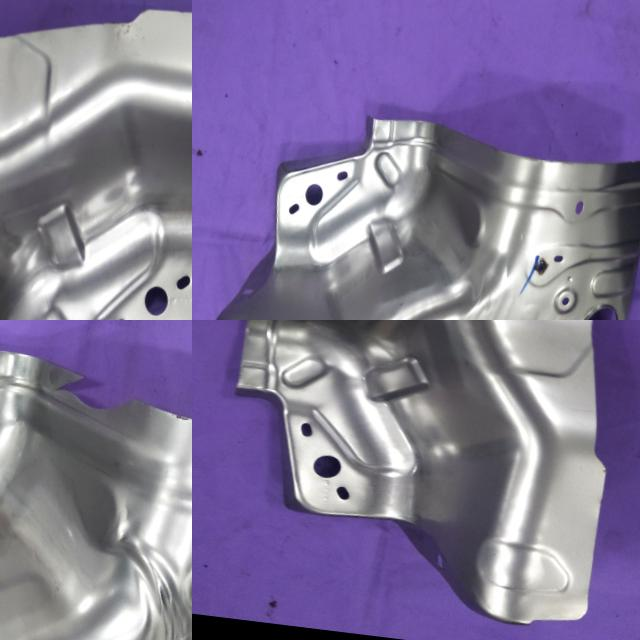Defect: (40, 366, 156, 444)
Healthy: (207, 320, 640, 633), (200, 91, 640, 320)
